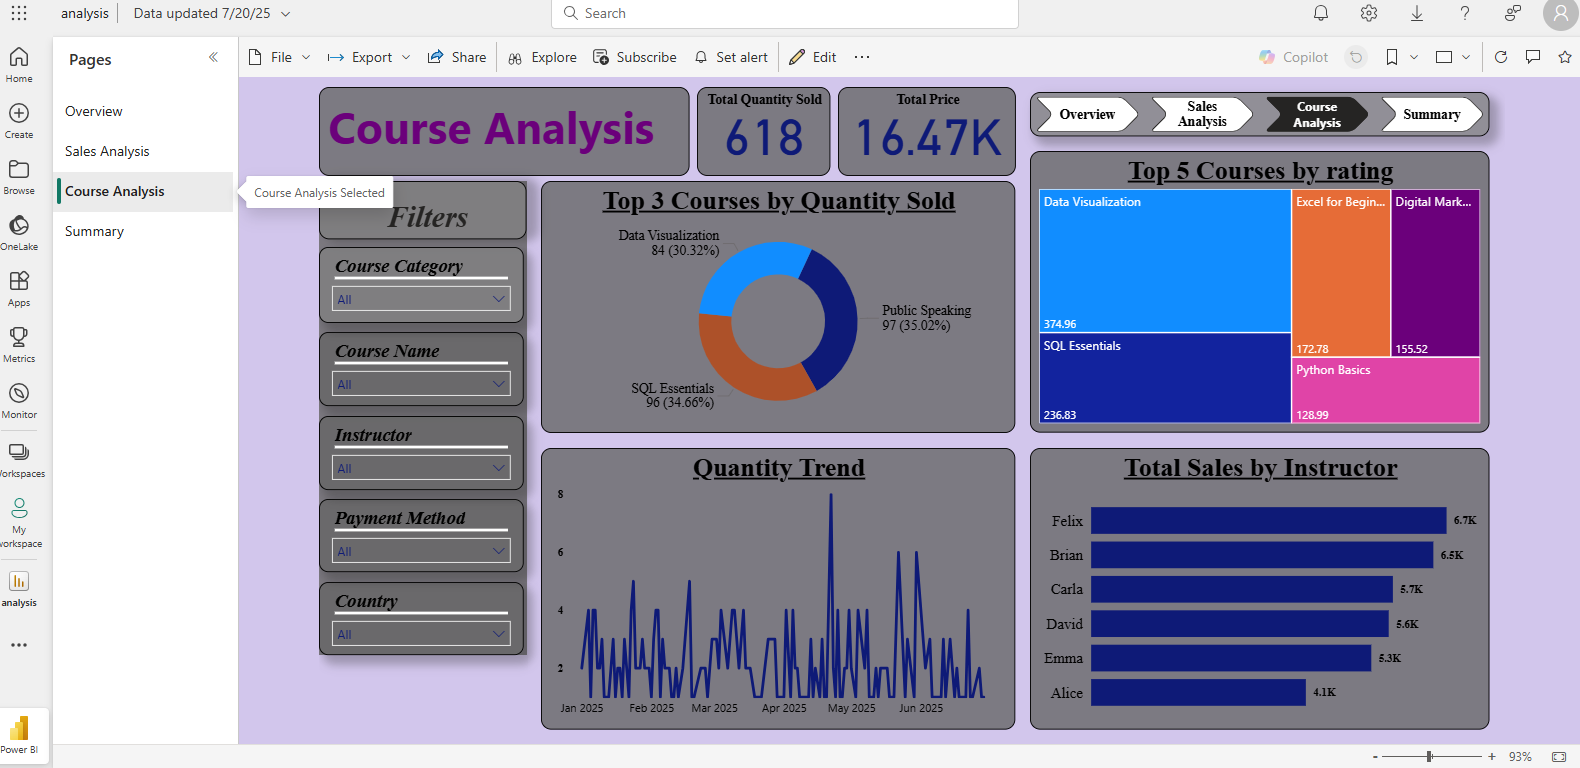

What the dashboard file says about the page in this screenshot:
{"tool":"powerbi","page":{"name":"Course Analysis","canvas":[1280,720],"ordinal":2},"visuals":[{"type":"slicer","fields":{"Values":["Project 2;Online_Course_Sales.Course Name"]},"box":[0,300.9,221.6,92.5],"z":0,"group":"g1"},{"type":"lineChart","title":"Quantity Trend","fields":{"Y":["CountNonNull(Project 2;Online_Course_Sales.Quantity)"],"Category":["Project 2;Online_Course_Sales.Order Date.Variation.Date Hierarchy.Year","Project 2;Online_Course_Sales.Order Date.Variation.Date Hierarchy.Quarter","Project 2;Online_Course_Sales.Order Date.Variation.Date Hierarchy.Month","Project 2;Online_Course_Sales.Order Date.Variation.Date Hierarchy.Day"]},"box":[240,400,512,304],"z":0},{"type":"slicer","fields":{"Values":["Project 2;Online_Course_Sales.Category"]},"box":[0,194.5,221.6,94.8],"z":1000,"group":"g1"},{"type":"barChart","fields":{"Y":["Measures Table.Total Sales"],"Category":["Project 2;Online_Course_Sales.Instructor"]},"box":[768,400,496,304],"z":1000},{"type":"textbox","box":[0,11,400,96],"z":2000},{"type":"slicer","fields":{"Values":["Project 2;Online_Course_Sales.Country"]},"box":[0,612,221.6,91.8],"z":2000,"group":"g1"},{"type":"pageNavigator","box":[768,16,496,48],"z":3000},{"type":"slicer","fields":{"Values":["Project 2;Online_Course_Sales.Payment Method"]},"box":[0,509.1,221.6,91.4],"z":3000,"group":"g1"},{"type":"donutChart","title":"Top 3 Courses by Quantity Sold","fields":{"Category":["Project 2;Online_Course_Sales.Course Name"],"Y":["Measures Table.Total Quantity sold"]},"box":[240,112,512,272],"z":4000},{"type":"slicer","fields":{"Values":["Project 2;Online_Course_Sales.Instructor"]},"box":[0,405,221.6,92.5],"z":4000,"group":"g1"},{"type":"card","title":"Total Quantity Sold","fields":{"Values":["Measures Table.Total Quantity sold"]},"box":[408,11,144,96],"z":5000},{"type":"card","title":"Total Price","fields":{"Values":["Measures Table.Total Price"]},"box":[560,11,192,96],"z":6000},{"type":"treemap","title":"Top 5 Courses by rating","fields":{"Group":["Project 2;Online_Course_Sales.Course Name"],"Values":["Measures Table.Total Sales"]},"box":[768,80,496,304],"z":7000},{"type":"group","id":"g1","title":"Group 1","box":[0,112.3,224.6,590.4],"z":8000},{"type":"textbox","box":[0,112.3,224.6,73.1],"z":9003,"group":"g1"}]}

Visuals, with their boxes on the page's 1280x720 design canvas (x1, y1, x2, y2). These are canvas units, not pixel positions in the 1580x768 screenshot, which may show the page scaled, cropped or inside an application window:
slicer - Project 2;Online_Course_Sales.Course Name: x1=0 y1=301 x2=222 y2=393
"Quantity Trend" lineChart: x1=240 y1=400 x2=752 y2=704
slicer - Project 2;Online_Course_Sales.Category: x1=0 y1=194 x2=222 y2=289
barChart - Measures Table.Total Sales x Project 2;Online_Course_Sales.Instructor: x1=768 y1=400 x2=1264 y2=704
textbox: x1=0 y1=11 x2=400 y2=107
slicer - Project 2;Online_Course_Sales.Country: x1=0 y1=612 x2=222 y2=704
pageNavigator: x1=768 y1=16 x2=1264 y2=64
slicer - Project 2;Online_Course_Sales.Payment Method: x1=0 y1=509 x2=222 y2=600
"Top 3 Courses by Quantity Sold" donutChart: x1=240 y1=112 x2=752 y2=384
slicer - Project 2;Online_Course_Sales.Instructor: x1=0 y1=405 x2=222 y2=498
"Total Quantity Sold" card: x1=408 y1=11 x2=552 y2=107
"Total Price" card: x1=560 y1=11 x2=752 y2=107
"Top 5 Courses by rating" treemap: x1=768 y1=80 x2=1264 y2=384
"Group 1" group: x1=0 y1=112 x2=225 y2=703
textbox: x1=0 y1=112 x2=225 y2=185
